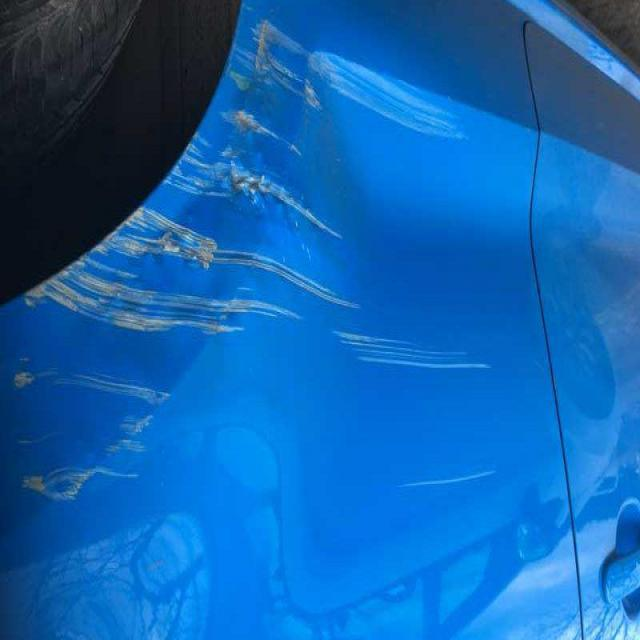scratch: (12, 6, 494, 382), (0, 378, 172, 522), (382, 462, 504, 512)
